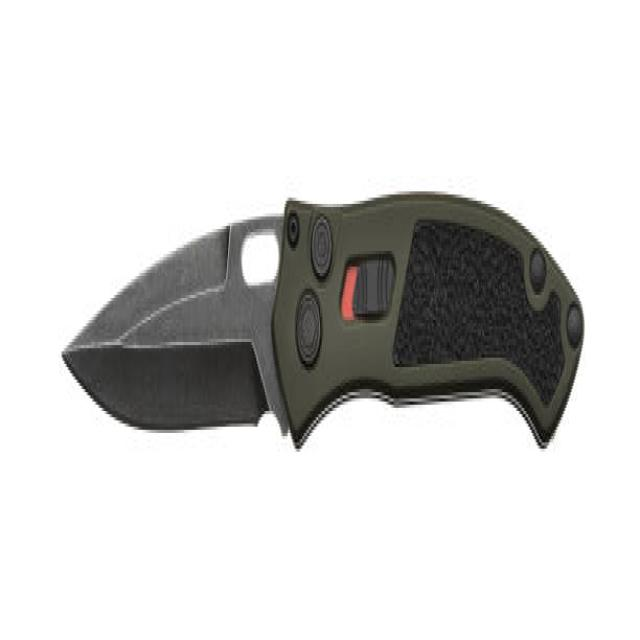knife: (57, 176, 589, 483)
